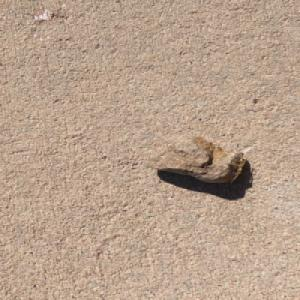Rock: (143, 134, 247, 185)
